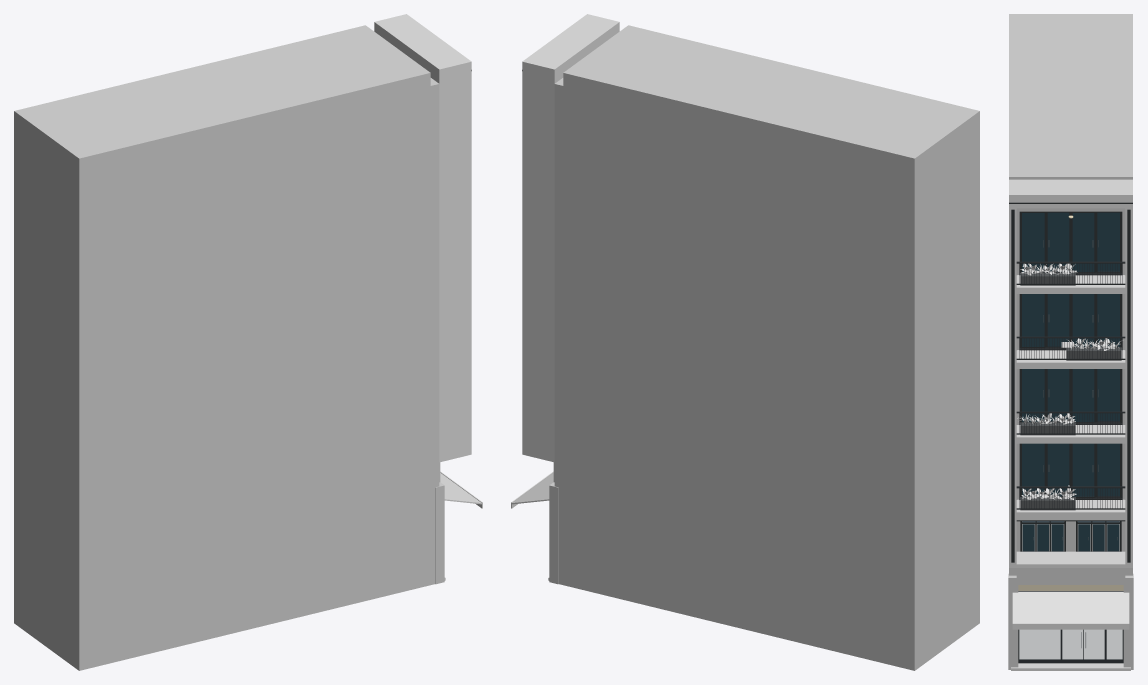
Rendered from OW_Mau_NhaPho_5_0_3_B.fbx.
3 views of the same model, side by side, from view 1: azimuth 30°, elevation 25°; view 2: azimuth 150°, elevation 25°; view 3: azimuth 270°, elevation 25° (orthographic). The views are drawn at different scales.
Visible parts, largest first — view 1: OW_NhaPho_9015; view 2: OW_NhaPho_9015; view 3: OW_NhaPho_9015, OW_MatTienKinh.
Part boxes in pixels (x1,y1,x2,y2): OW_NhaPho_9015: (14, 14, 482, 670); OW_NhaPho_9015: (511, 14, 979, 670); OW_NhaPho_9015: (1008, 14, 1133, 670); OW_MatTienKinh: (1018, 585, 1123, 663).
Bounding box in the file's own units: 17.77 × 21.5 × 5.
